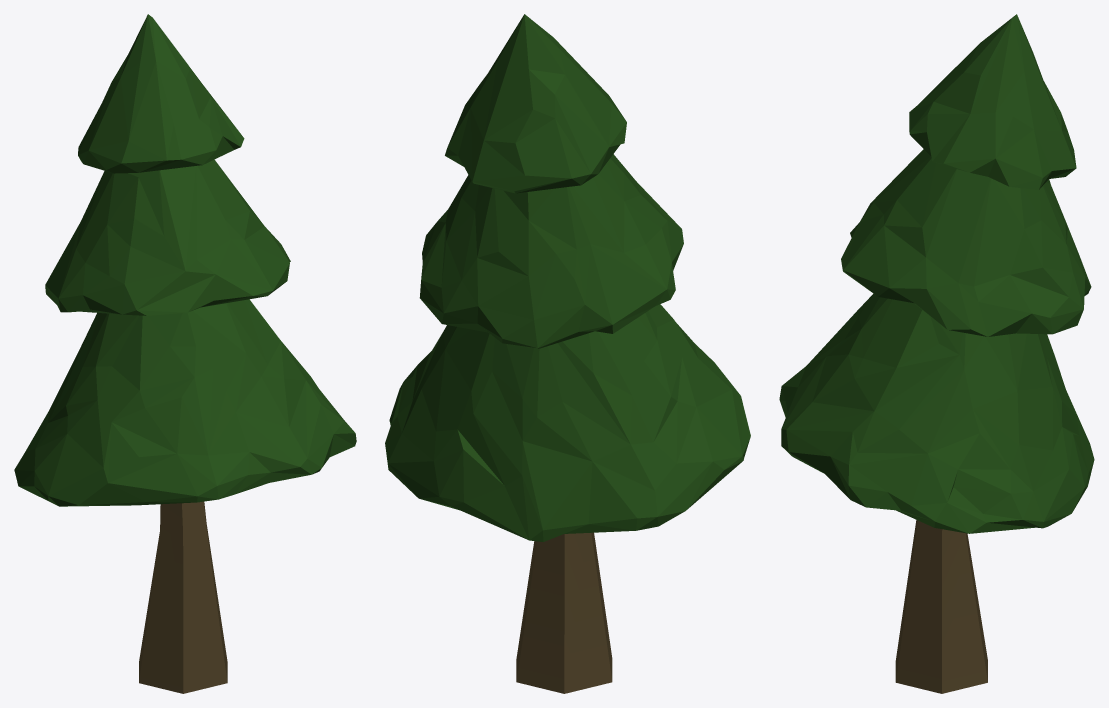
The model's file is PineTree6.fbx.
3 renders of one model, left to right at view 1: azimuth 30°, elevation 25°; view 2: azimuth 150°, elevation 25°; view 3: azimuth 270°, elevation 25°, orthographic. The views are drawn at different scales.
Visible parts, largest first — view 1: Tree3; view 2: Tree3; view 3: Tree3.
Part boxes in pixels (box(x1,y1,x2,y2)): Tree3: box(14, 14, 356, 693); Tree3: box(385, 14, 750, 693); Tree3: box(779, 14, 1094, 693).
Size of the model in its own units: 2.67 by 5.29 by 2.29.
